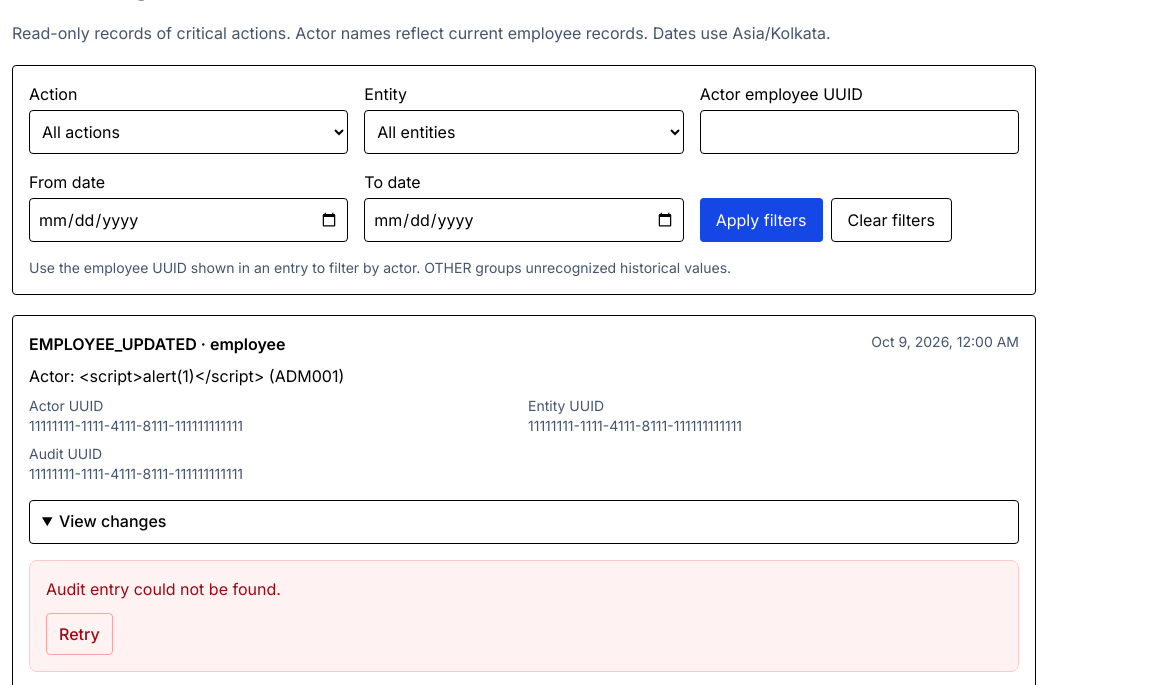
Test: audit viewer › detail 404 uses safe message and allows retry
Expected: the heading "View changes" is shown, [29,500,1019,544]
Expected: the message shows "Audit entry could not be found.", [46,579,281,599]
Click the button "Retry": (79, 634) [46,613,113,655]
(page scrolled)
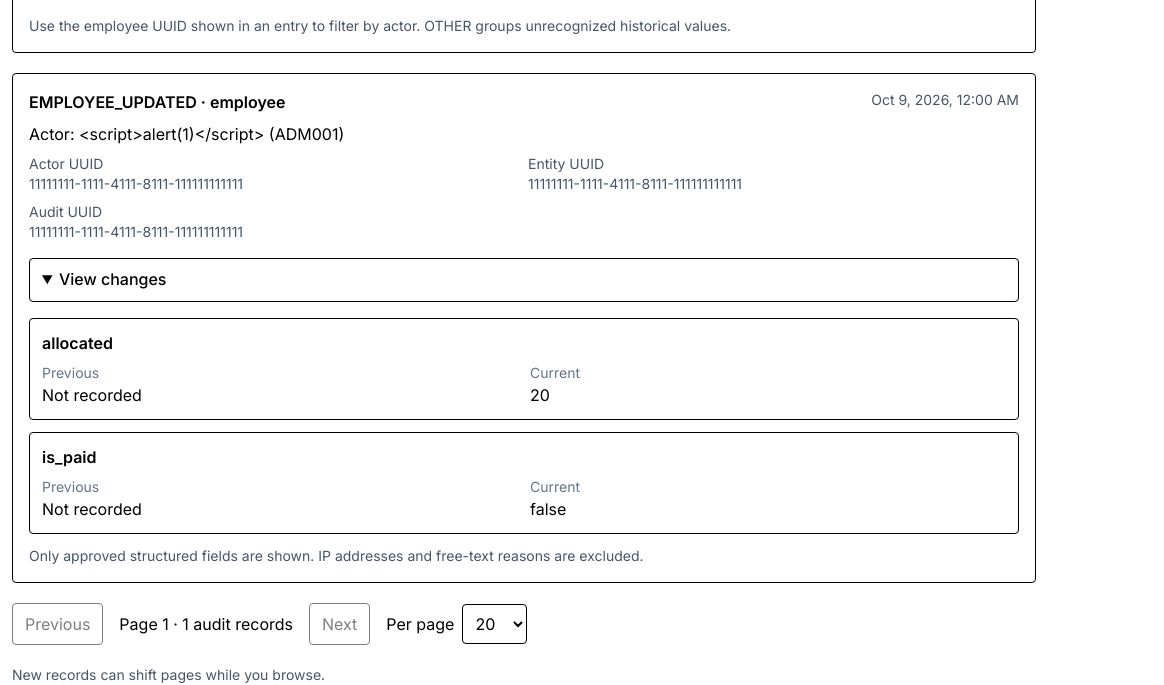
Result: the text "20" is shown at [530,385,550,405]
Result: the text "false" is shown at [530,499,566,519]
